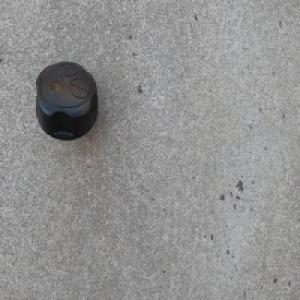FuelCap: (35, 59, 99, 142)
